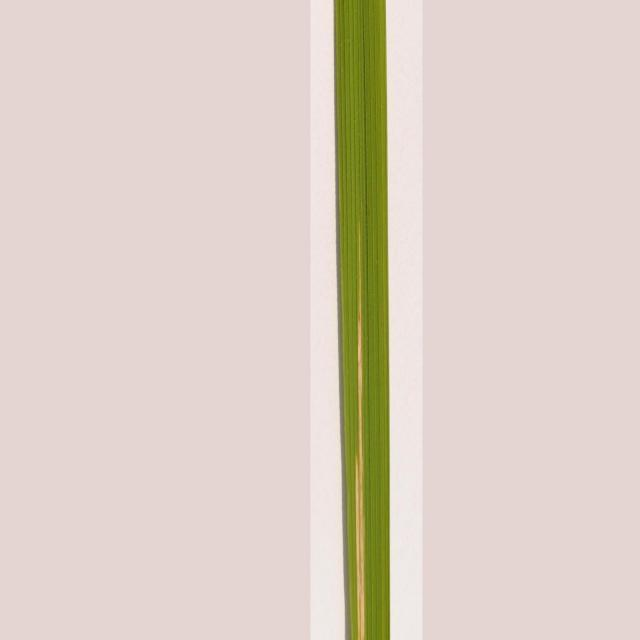leaf blight: (344, 224, 391, 638)
